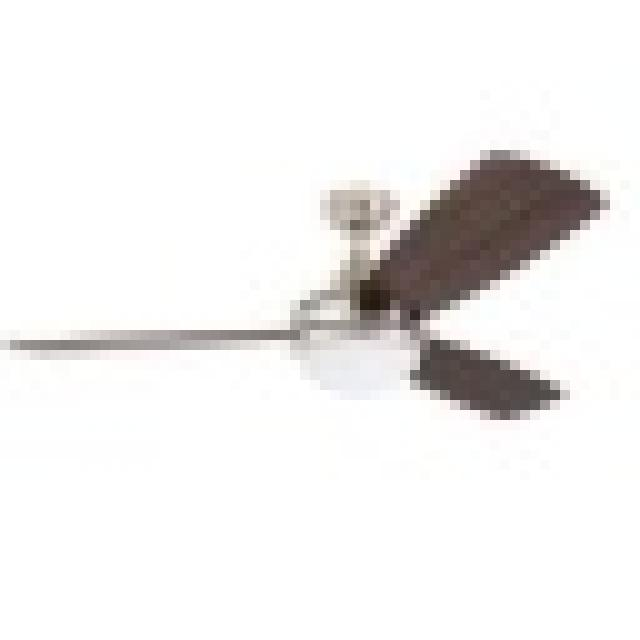Bulb: (5, 158, 640, 502)
